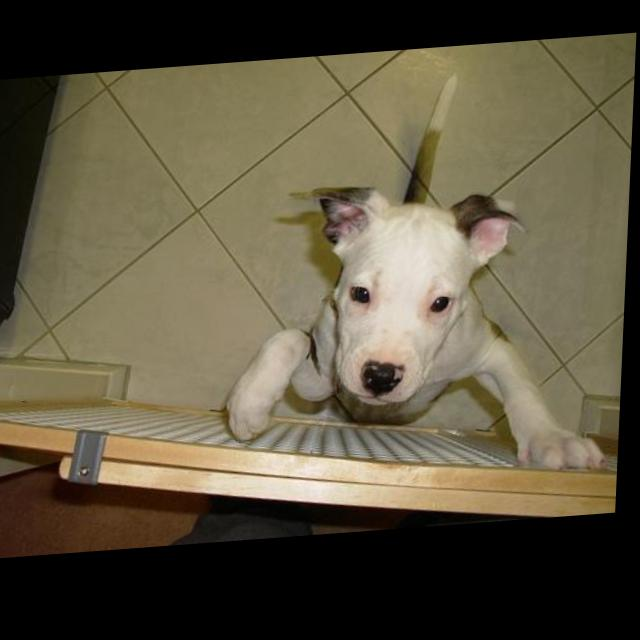staffford: (228, 174, 623, 501)
